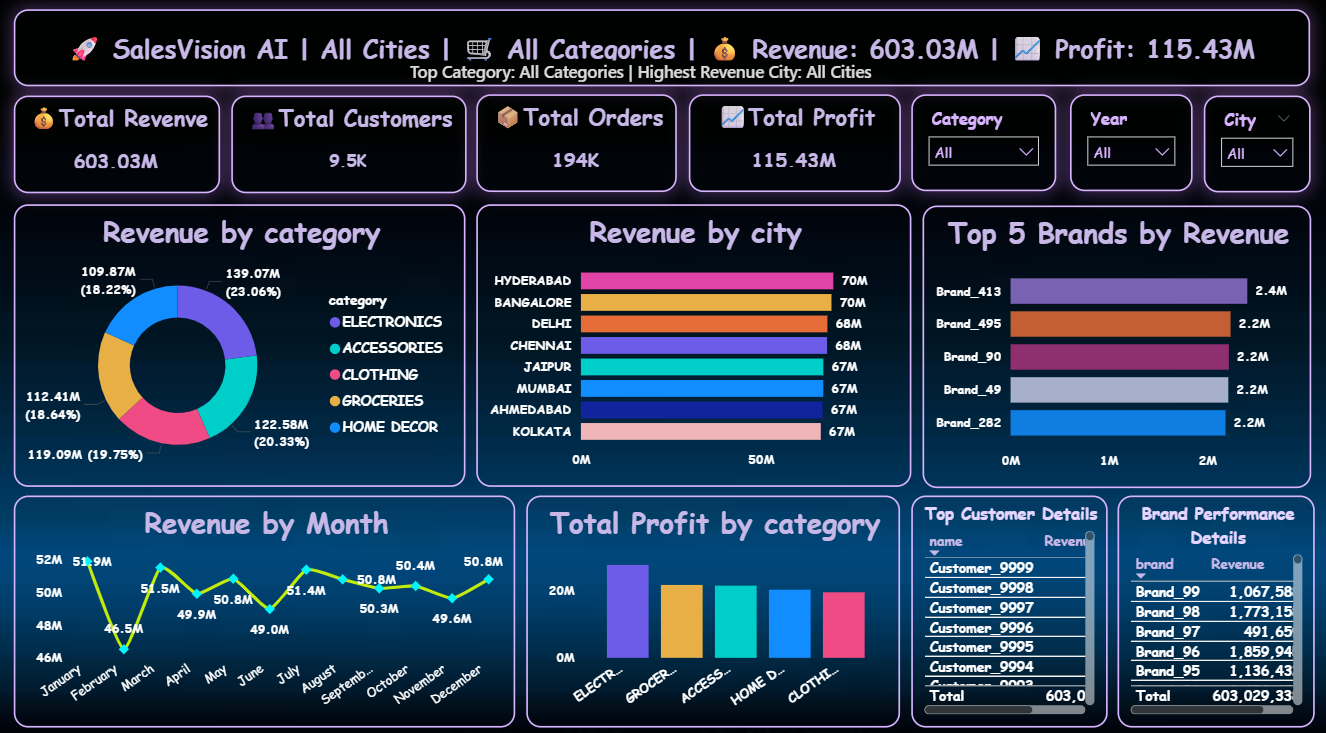

This screenshot's page, from the dashboard's own definition file:
{"tool":"powerbi","page":{"name":"Dashboard","canvas":[1280,720],"ordinal":0},"visuals":[{"type":"cardVisual","title":"💰Total Revenve","fields":{"Data":["orders_clean_final.Revenue"]},"box":[13.7,94.7,199,94.7],"z":0},{"type":"cardVisual","title":"📈Total Profit","fields":{"Data":["orders_clean_final.Total_Profit"]},"box":[664.2,93.3,204.5,94.7],"z":1000},{"type":"cardVisual","title":"📦Total Orders","fields":{"Data":["CountNonNull(orders_clean_final.order_id)"]},"box":[459.7,93.3,193.5,94.7],"z":2000},{"type":"cardVisual","title":"👥Total Customers","fields":{"Data":["CountNonNull(customers_clean.customer_id)"]},"box":[223.2,94.1,226.8,94.1],"z":3000},{"type":"donutChart","title":"Revenue by category ","fields":{"Category":["products_clean_final.category"],"Y":["orders_clean_final.Revenue"]},"box":[13.7,199,436.4,273.1],"z":4000},{"type":"clusteredBarChart","fields":{"Category":["customers_clean.city"],"Y":["orders_clean_final.Revenue"]},"box":[459.7,199,419.9,273.1],"z":5000},{"type":"lineChart","fields":{"Category":["orders_clean_final.order_date.Variation.Date Hierarchy.Month"],"Y":["orders_clean_final.Revenue"]},"box":[13.7,480.3,484.4,223.7],"z":6000},{"type":"tableEx","title":"Top Customer Details","fields":{"Values":["customers_clean.name","orders_clean_final.Revenue"]},"box":[879.6,480.3,189.4,223.7],"z":7000},{"type":"tableEx","title":"Brand Performance Details","fields":{"Values":["products_clean_final.brand","orders_clean_final.Revenue"]},"box":[1078.6,480.3,190.7,223.7],"z":8000},{"type":"slicer","fields":{"Values":["customers_clean.city"]},"box":[1162.3,94.7,102.9,93.3],"z":9000},{"type":"slicer","fields":{"Values":["orders_clean_final.year"]},"box":[1033.3,93.3,118,93.3],"z":10000},{"type":"slicer","fields":{"Values":["products_clean_final.category"]},"box":[879.6,93.3,140,93.3],"z":11000},{"type":"columnChart","title":"Total Profit by category","fields":{"Category":["products_clean_final.category"],"Y":["orders_clean_final.Total_Profit"]},"box":[507.7,480.3,360.9,223.7],"z":12000},{"type":"cardVisual","fields":{"Data":["orders_clean_final.Dynamic_Title"]},"box":[13.7,11,1251.5,74.1],"z":13000},{"type":"clusteredBarChart","title":"Top 5 Brands by Revenue","fields":{"Category":["products_clean_final.brand"],"Y":["orders_clean_final.Revenue"]},"box":[890.4,200.3,375.2,272.7],"z":14000},{"type":"cardVisual","fields":{"Data":["orders_clean_final.Dynamic_Insight"]},"box":[366.4,31.6,808.2,76.8],"z":15000}]}

Visuals, with their boxes in screenshot pixels (x1, y1, x2, y2), scaled from the page's 1280x720 canvas onto the 1326x733 screenshot:
"💰Total Revenve" cardVisual: region(14, 96, 220, 193)
"📈Total Profit" cardVisual: region(688, 95, 900, 191)
"📦Total Orders" cardVisual: region(476, 95, 677, 191)
"👥Total Customers" cardVisual: region(231, 96, 466, 192)
"Revenue by category " donutChart: region(14, 203, 466, 481)
clusteredBarChart - customers_clean.city x orders_clean_final.Revenue: region(476, 203, 911, 481)
lineChart - orders_clean_final.order_date.Variation.Date Hierarchy.Month x orders_clean_final.Revenue: region(14, 489, 516, 717)
"Top Customer Details" tableEx: region(911, 489, 1107, 717)
"Brand Performance Details" tableEx: region(1117, 489, 1315, 717)
slicer - customers_clean.city: region(1204, 96, 1311, 191)
slicer - orders_clean_final.year: region(1070, 95, 1193, 190)
slicer - products_clean_final.category: region(911, 95, 1056, 190)
"Total Profit by category" columnChart: region(526, 489, 900, 717)
cardVisual - orders_clean_final.Dynamic_Title: region(14, 11, 1311, 87)
"Top 5 Brands by Revenue" clusteredBarChart: region(922, 204, 1311, 482)
cardVisual - orders_clean_final.Dynamic_Insight: region(380, 32, 1217, 110)
